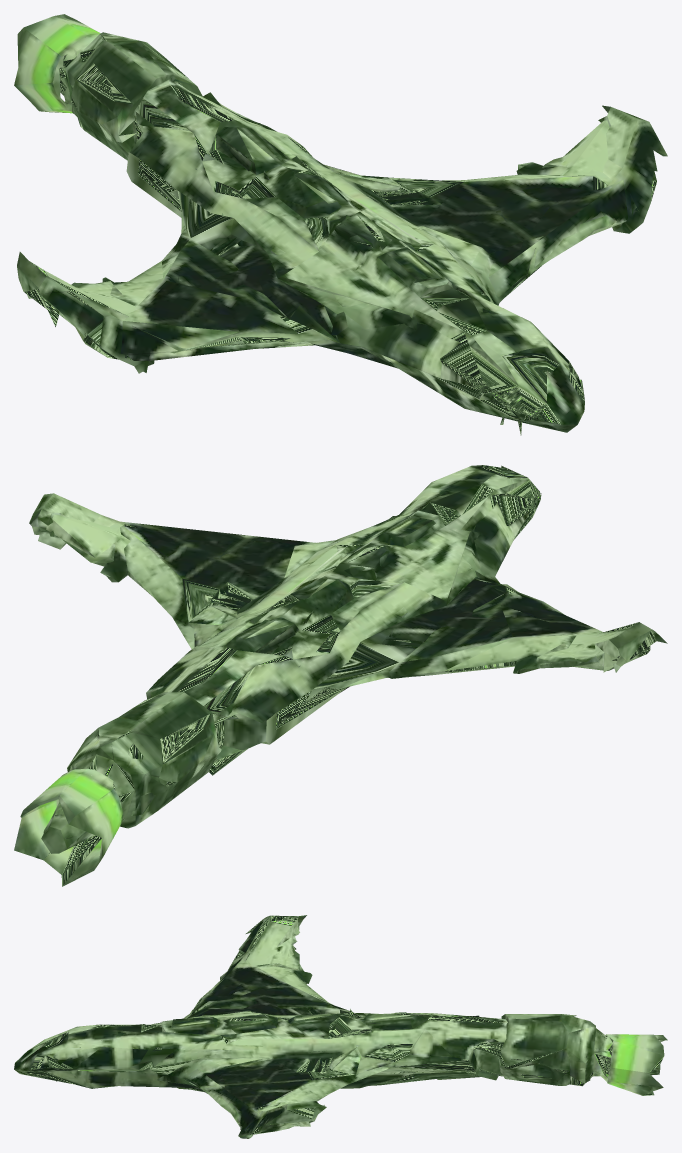
The model's file is boss-wraith.glb.
3 views of the same model, one above another, from view 1: azimuth 30°, elevation 25°; view 2: azimuth 150°, elevation 25°; view 3: azimuth 270°, elevation 25° (orthographic). The views are drawn at different scales.
Bounding box in the file's own units: 0.8668 × 0.1781 × 1.23.
Materials: 1 (1 with a texture image).
